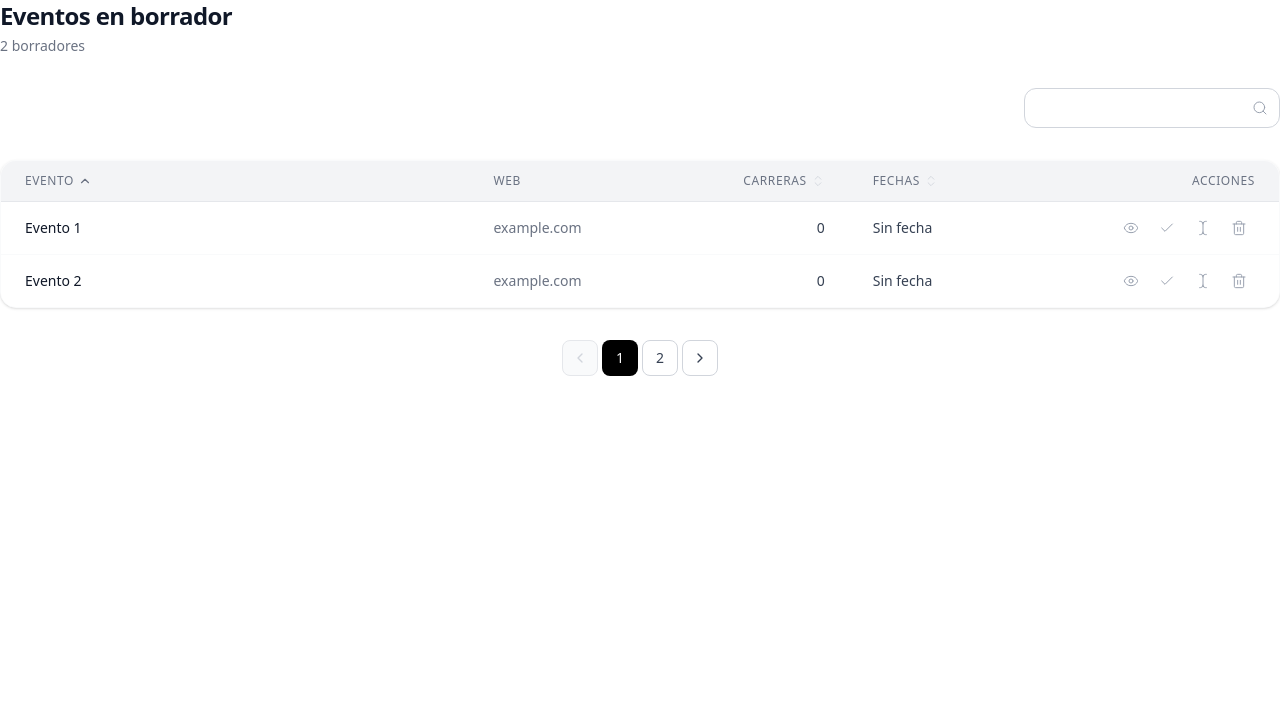
Test case: AdminEventImportDraftsContent › retains a deleted row and closes its confirmation
Click the button named "Eliminar" in the row of "Evento 1" at (1239, 228), box [1223,212,1255,244]
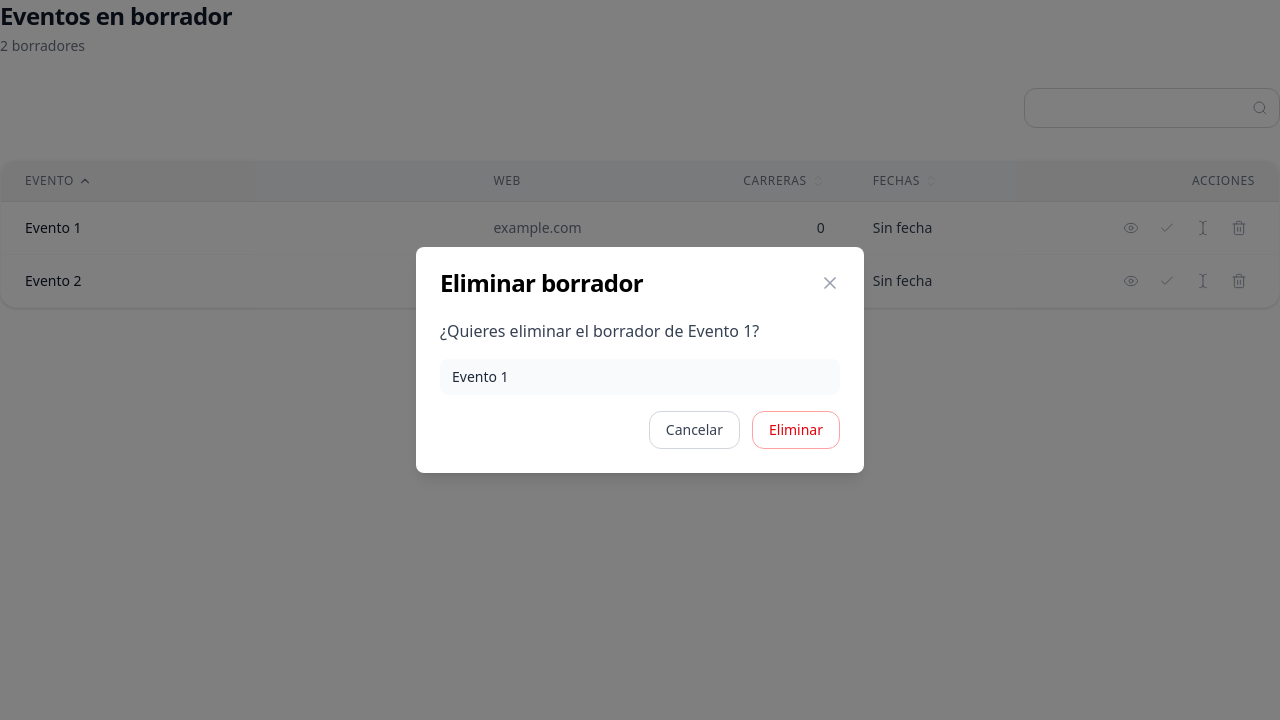
Click the button "Eliminar" at (796, 430), box [752,411,840,449]
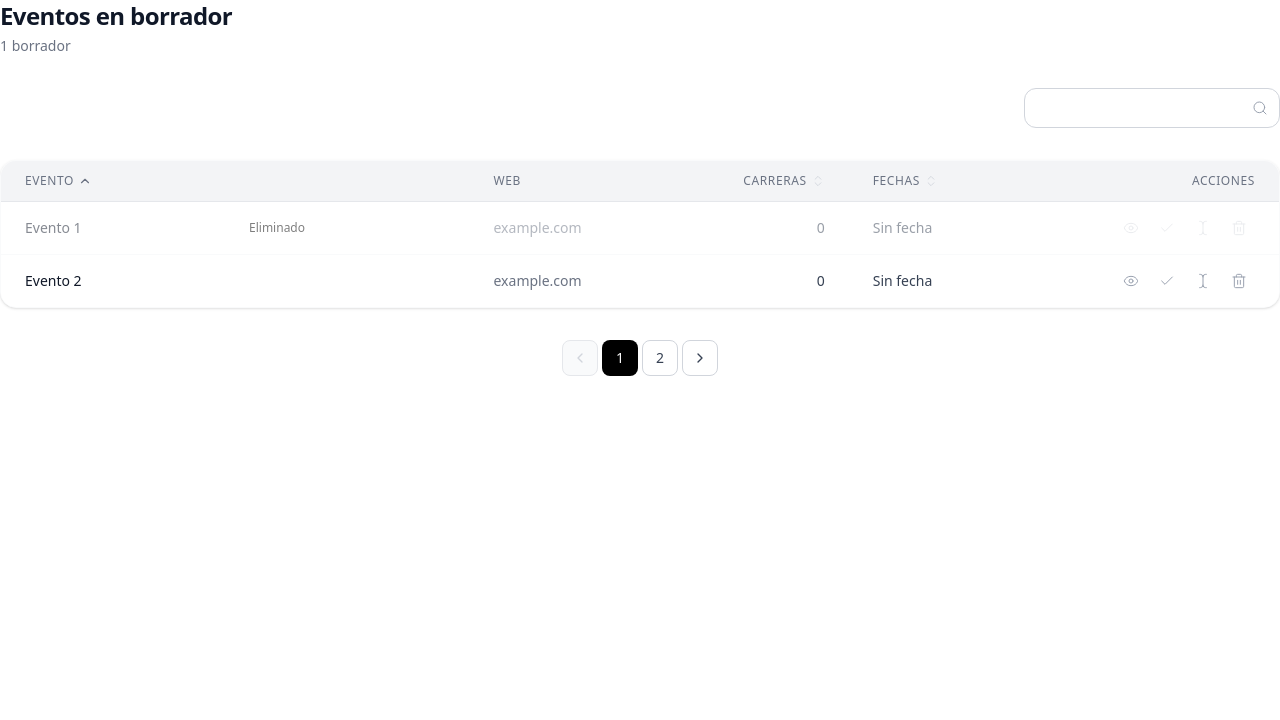
Expected: the heading "Eliminar borrador" is gone
Expected: the text "1 borrador" is shown, [0,36,71,55]
